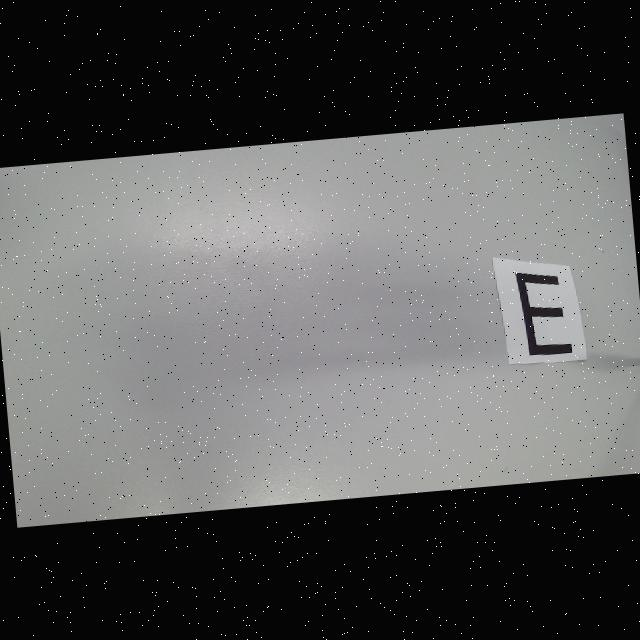FAKE: (514, 268, 572, 358)
